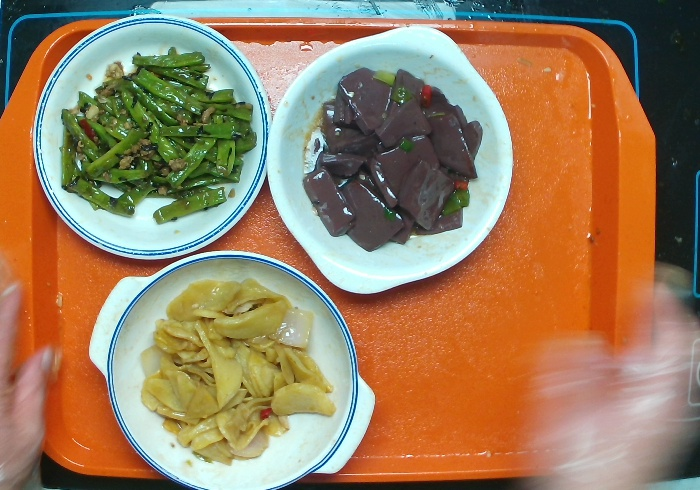HZYJPL-Dai_Er_Bai_Yuan_Wan: (262, 22, 517, 298)
HZYJPL-Lan_Bian_Dai_Er_Wan: (87, 247, 377, 490)
HZYJPL-Lan_Bian_Yuan_Die: (30, 10, 276, 264)
